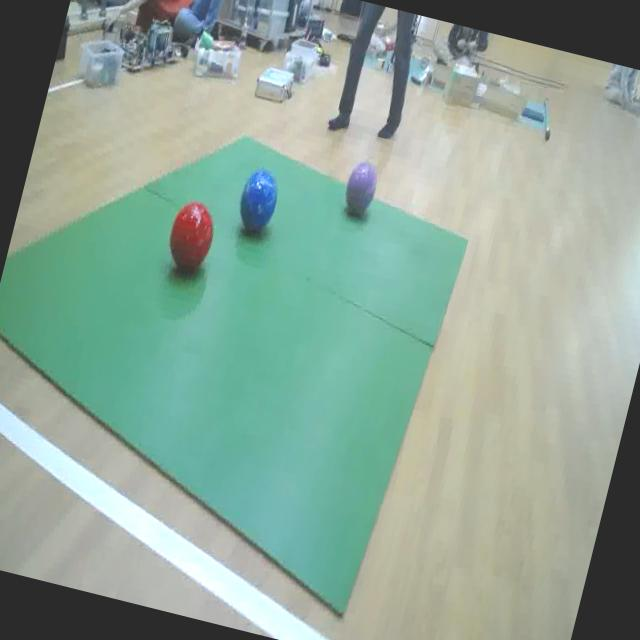blue_ball: (234, 164, 284, 234)
purple_ball: (341, 158, 382, 217)
red_ball: (162, 198, 218, 272)
